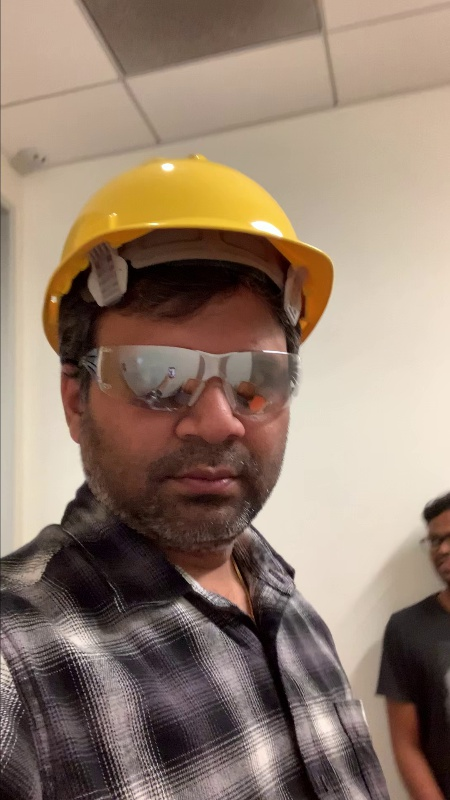glasses: (95, 340, 299, 416)
helmet: (73, 152, 327, 262)
